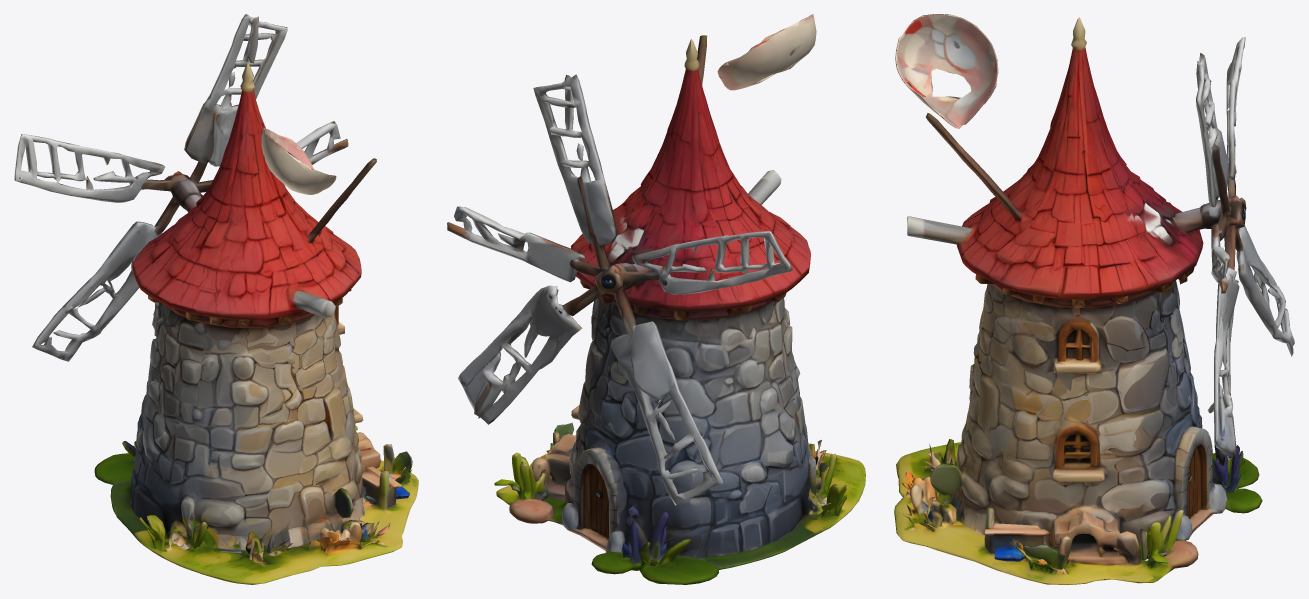
File: windmill.glb
3 views of the same model, side by side, from view 1: azimuth 30°, elevation 25°; view 2: azimuth 150°, elevation 25°; view 3: azimuth 270°, elevation 25° (orthographic). The views are drawn at different scales.
Parts seen in each view (by area): view 1: tripo_node_a9881281-d6c2-4f92-b037-1a7d8569a492; view 2: tripo_node_a9881281-d6c2-4f92-b037-1a7d8569a492; view 3: tripo_node_a9881281-d6c2-4f92-b037-1a7d8569a492.
Part boxes in pixels (bbox=[...]): tripo_node_a9881281-d6c2-4f92-b037-1a7d8569a492: bbox=[14, 14, 418, 584]; tripo_node_a9881281-d6c2-4f92-b037-1a7d8569a492: bbox=[447, 14, 865, 584]; tripo_node_a9881281-d6c2-4f92-b037-1a7d8569a492: bbox=[894, 14, 1294, 584].
Bounding box in the file's own units: 0.771 × 1 × 0.7436.
1 material, 1 textured.
